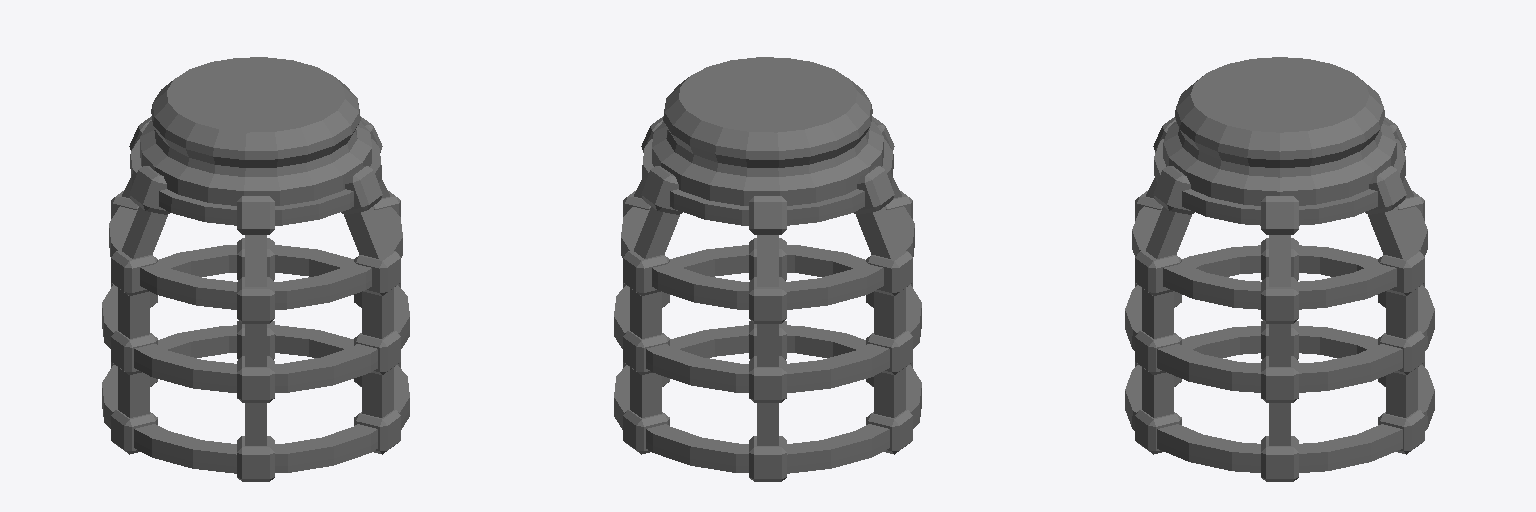
Rendered from Cage.obj.
3 renders of one model, left to right at view 1: azimuth 30°, elevation 25°; view 2: azimuth 150°, elevation 25°; view 3: azimuth 270°, elevation 25°, orthographic.
Visible parts, largest first — view 1: Cage; view 2: Cage; view 3: Cage.
Part boxes in pixels (x1,y1,x2,y2): Cage: (102, 57, 409, 481); Cage: (614, 57, 921, 481); Cage: (1125, 57, 1434, 481).
Bounding box in the file's own units: 0.8944 × 0.9959 × 0.8693.